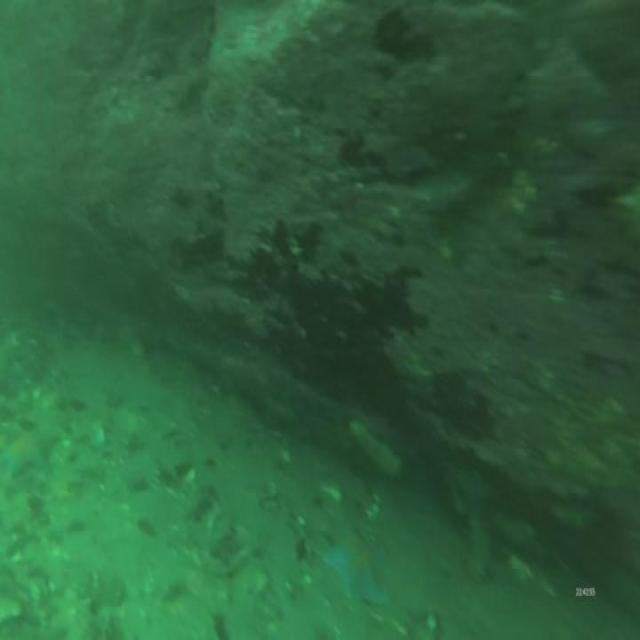holothurian: (343, 411, 409, 490), (462, 502, 492, 590)
starfish: (313, 504, 393, 616), (0, 418, 60, 483)
